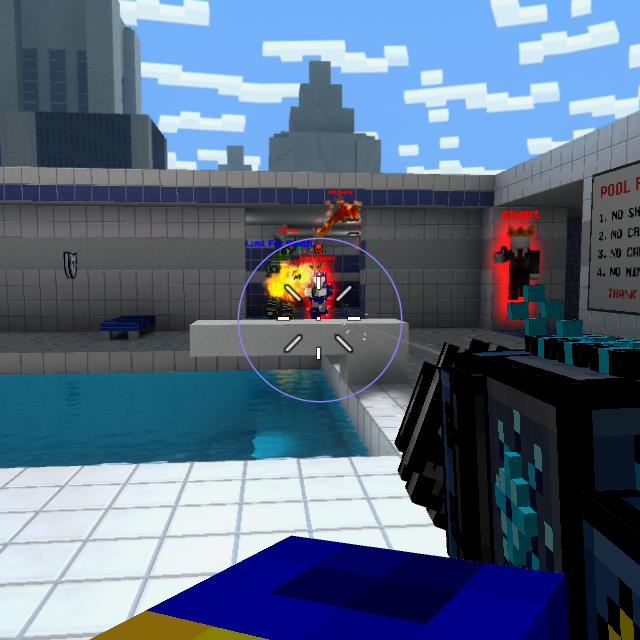Enemy: (493, 229, 540, 300), (304, 270, 333, 319)
